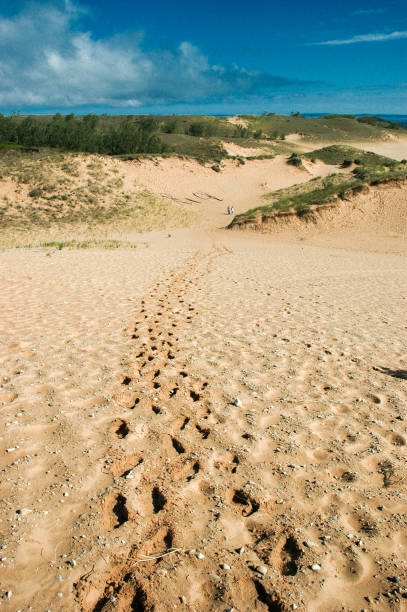human_foot_print: (88, 269, 404, 610), (106, 293, 211, 529)
